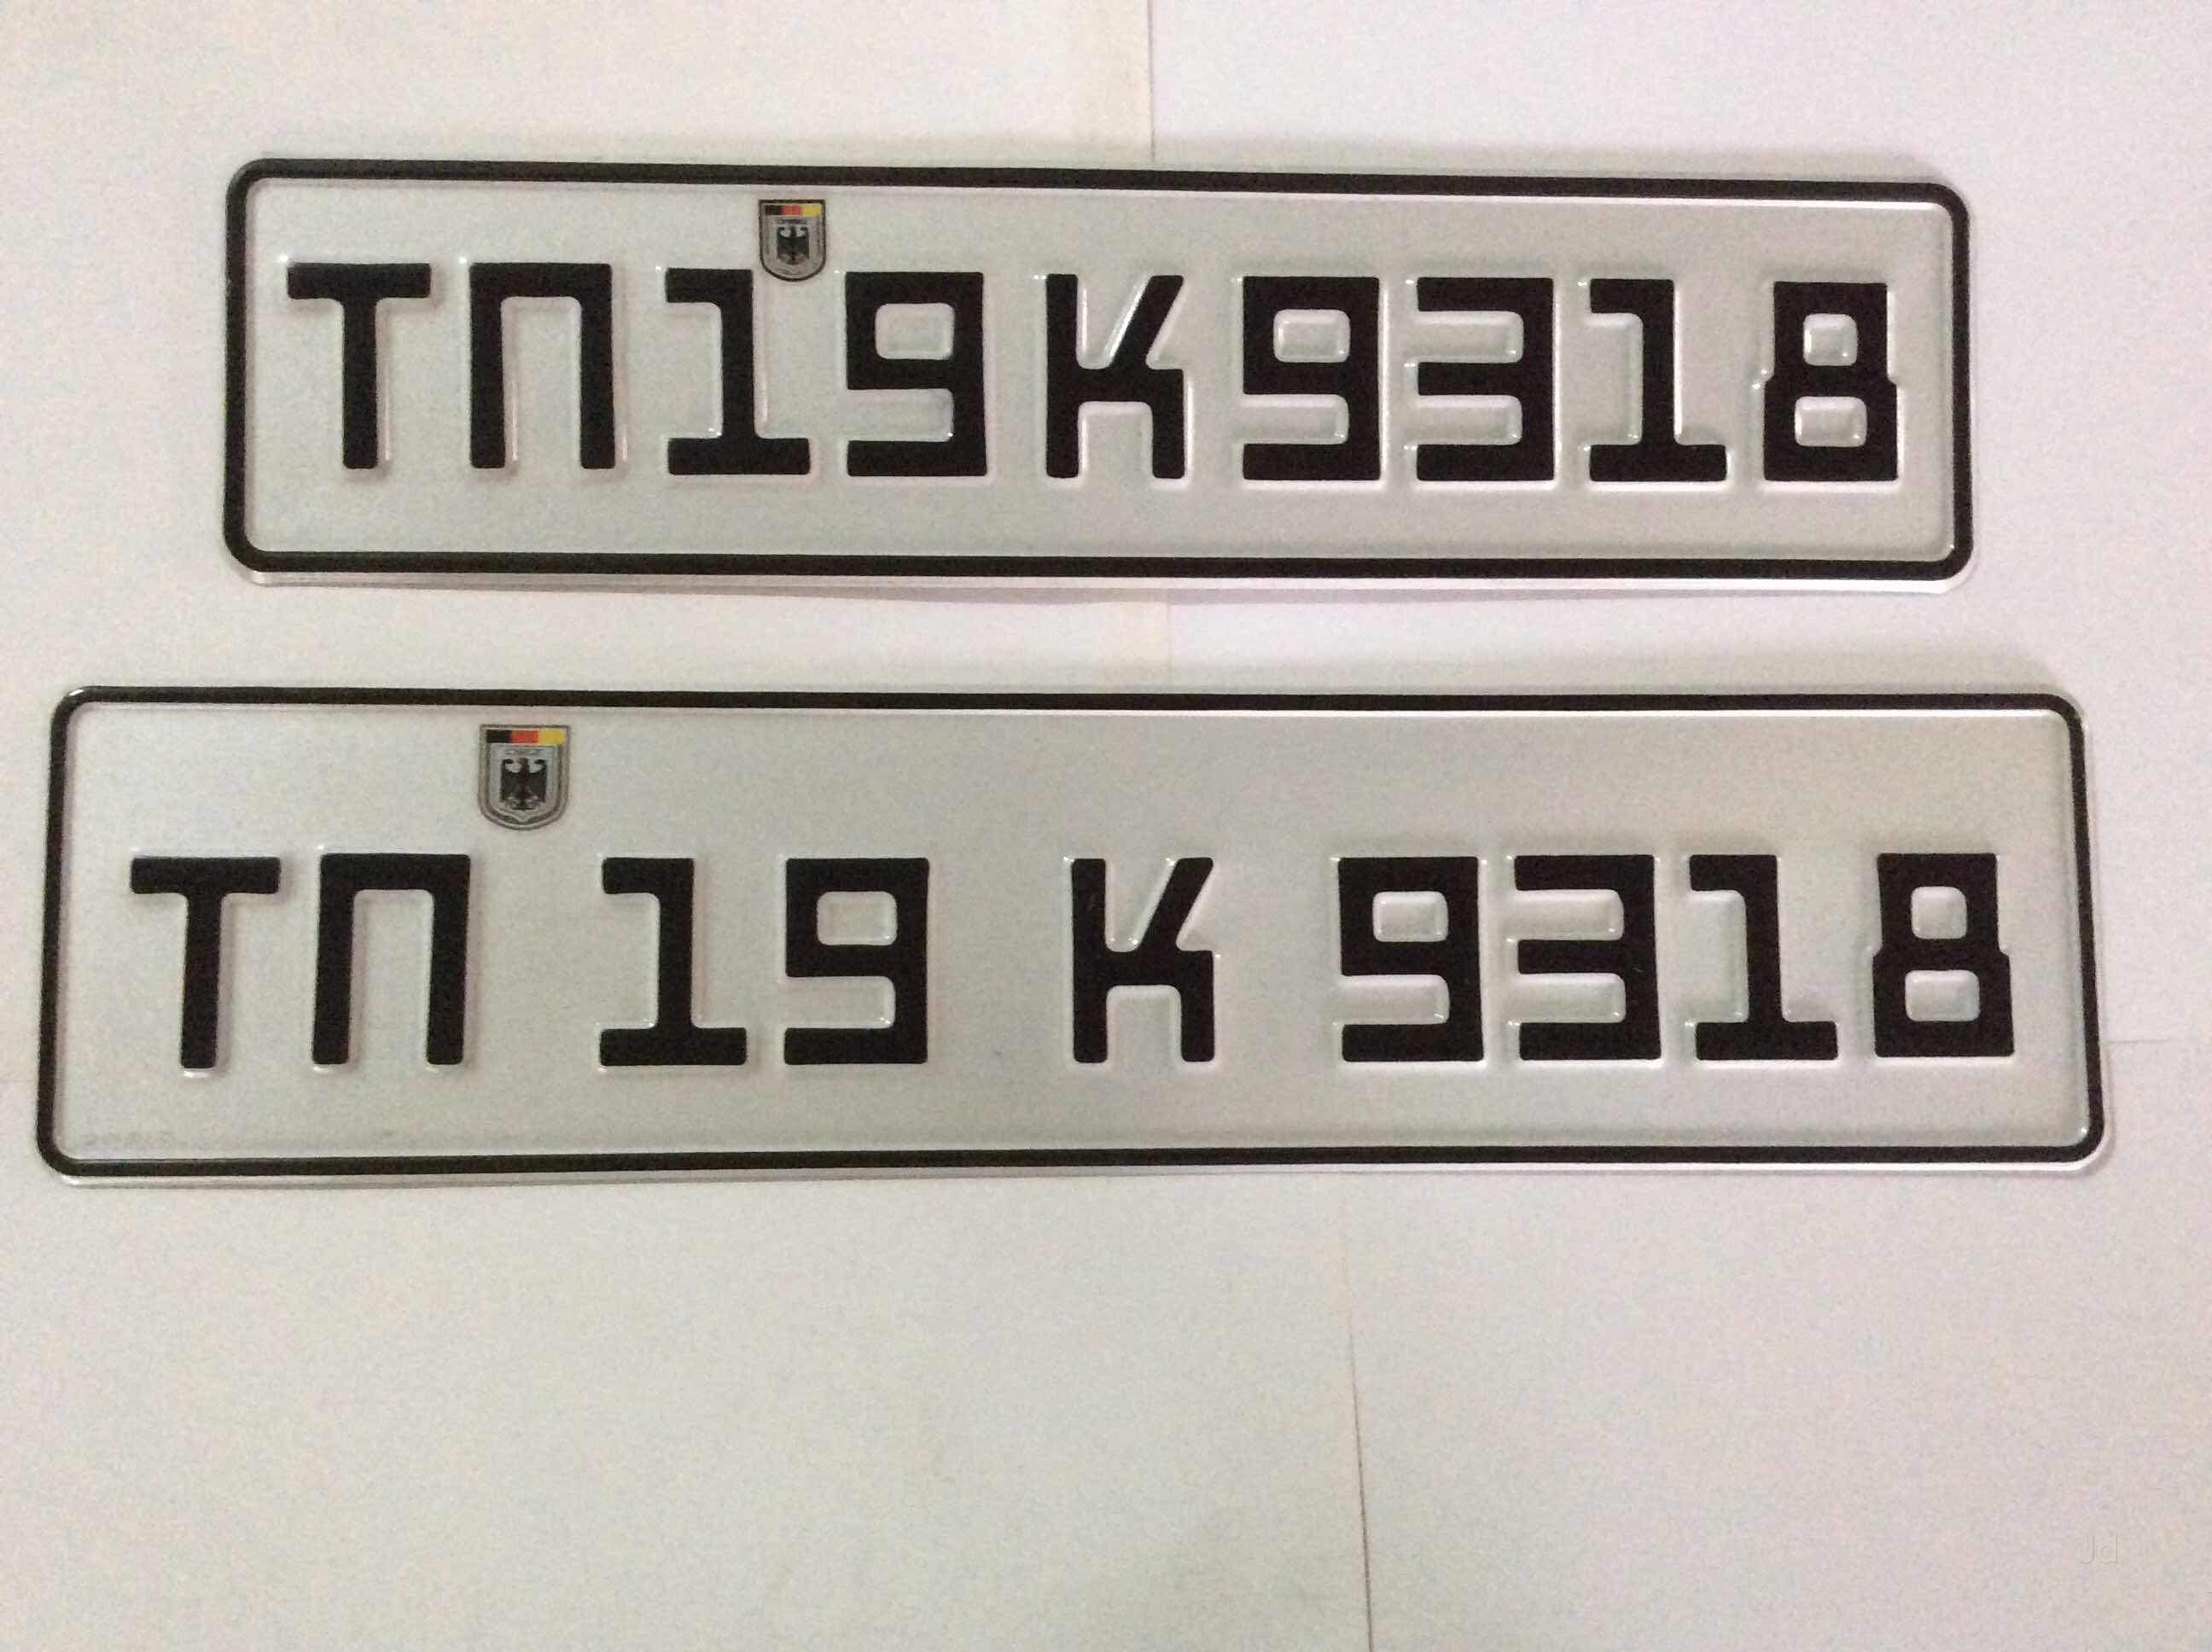plate: (255, 162, 1999, 611)
